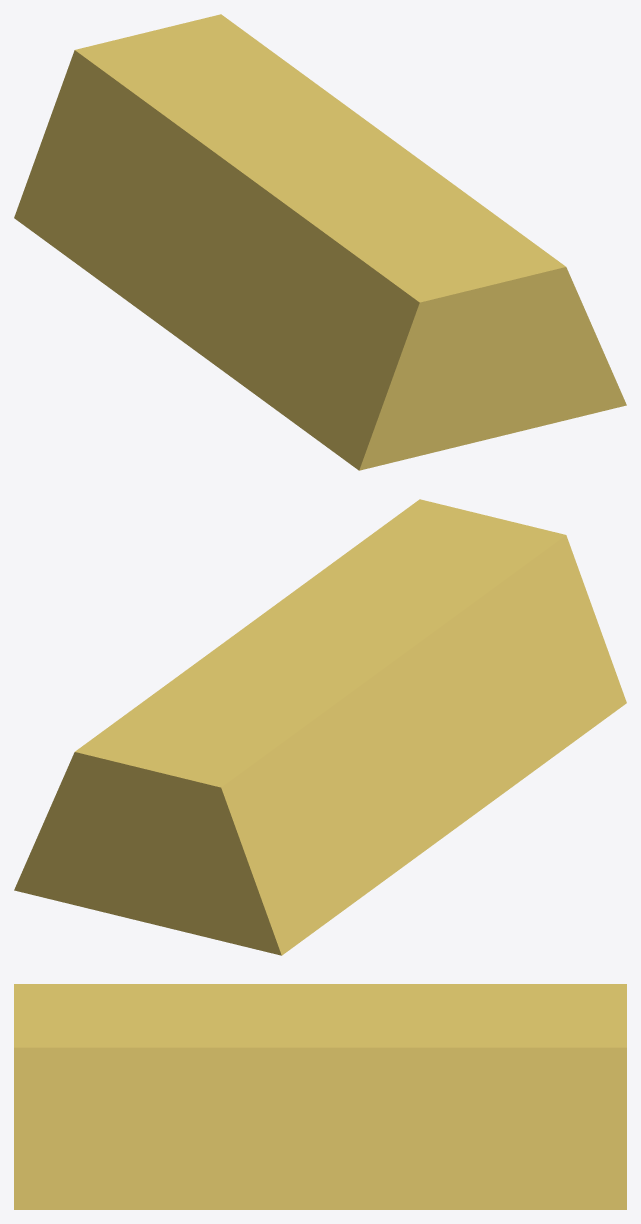
The model's file is gold.fbx.
The picture shows the model from 3 angles, top to bottom: view 1: azimuth 30°, elevation 25°; view 2: azimuth 150°, elevation 25°; view 3: azimuth 270°, elevation 25°; orthographic projection. The views are drawn at different scales.
Parts seen in each view (by area): view 1: Cube; view 2: Cube; view 3: Cube.
Boxes of the visible parts, <box> form: Cube: <box>14,14,626,470</box>; Cube: <box>14,499,626,955</box>; Cube: <box>14,984,626,1209</box>.
Bounding box in the file's own units: 366 × 200 × 816.
